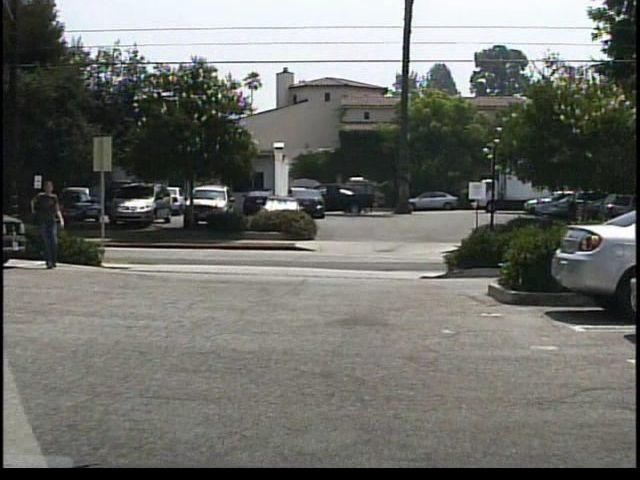person: (32, 180, 69, 272)
